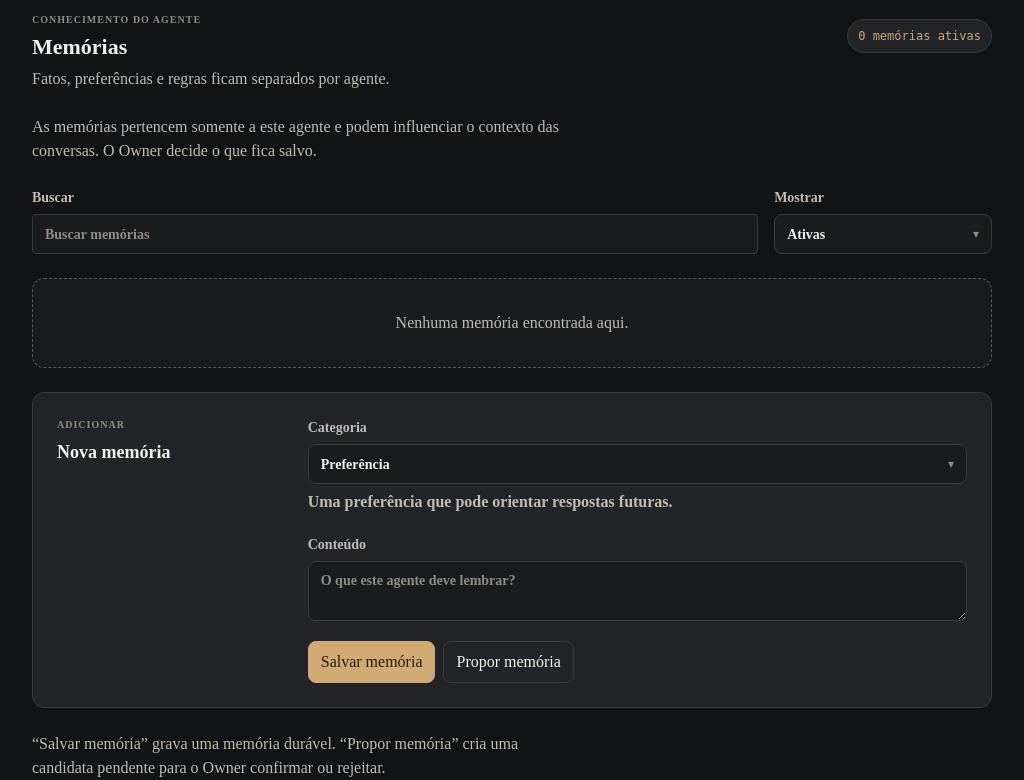
Scenario: State and memory guidance › shows contextual memory count, category help, and proposal semantics
Click the button "Ativas ▾".
click(883, 234)  # box [774, 214, 992, 254]
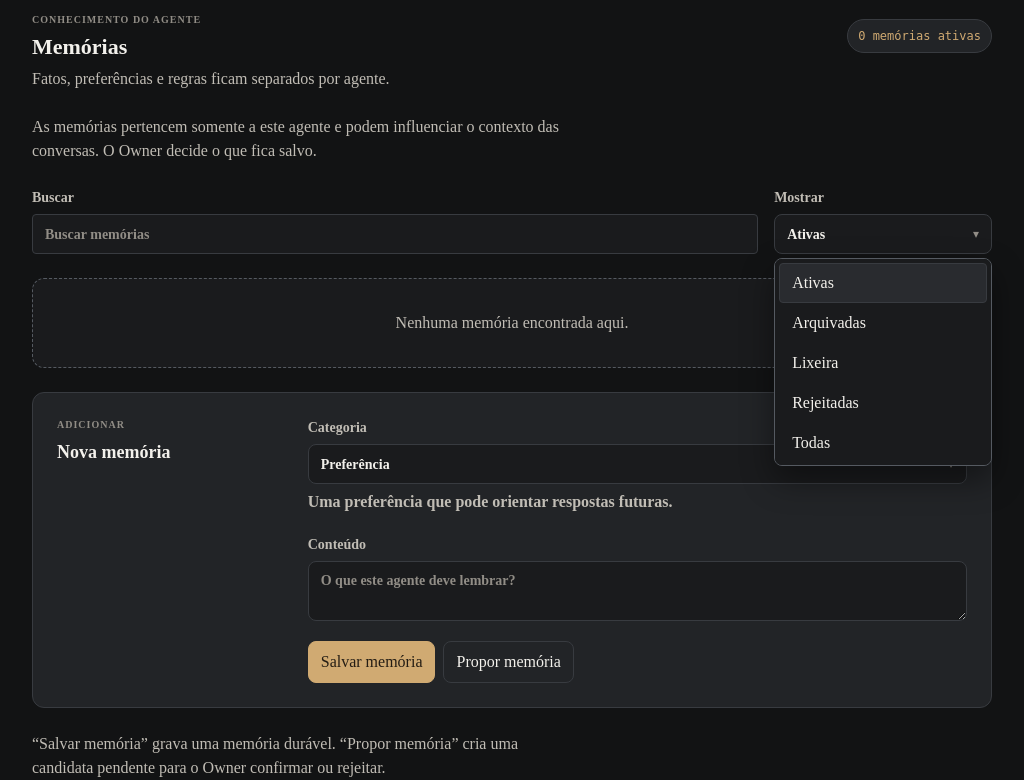
Click the option "Arquivadas".
click(829, 322)  # box [792, 314, 866, 331]
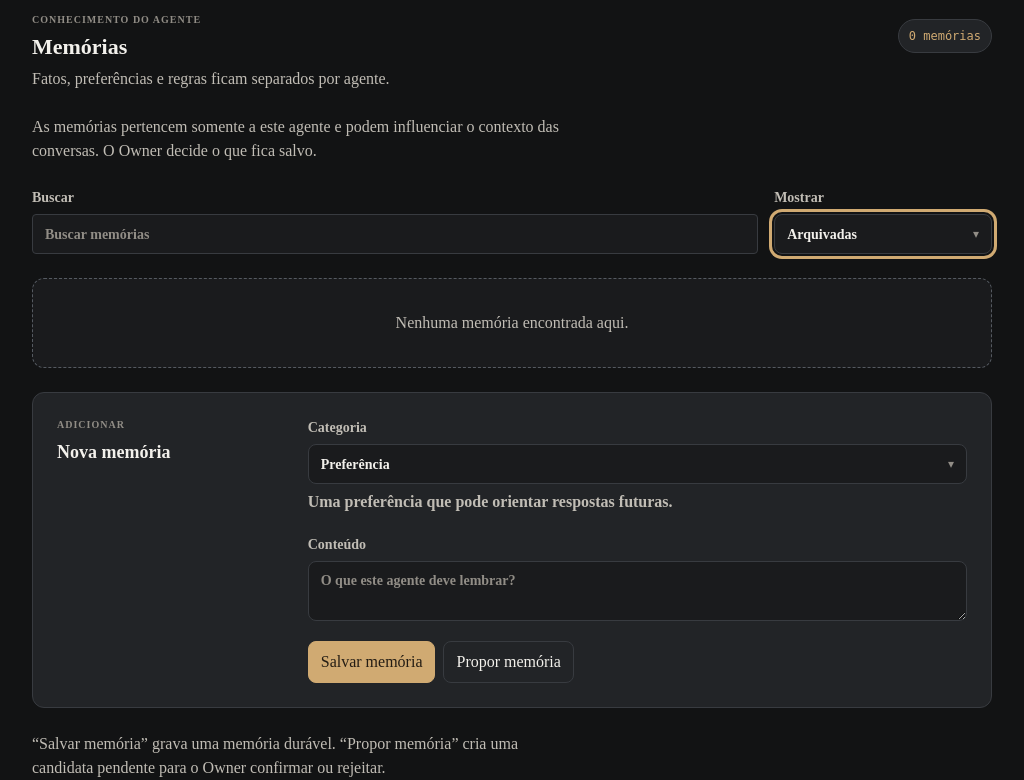
Click the button "Preferência ▾".
click(355, 464)  # box [308, 444, 967, 484]
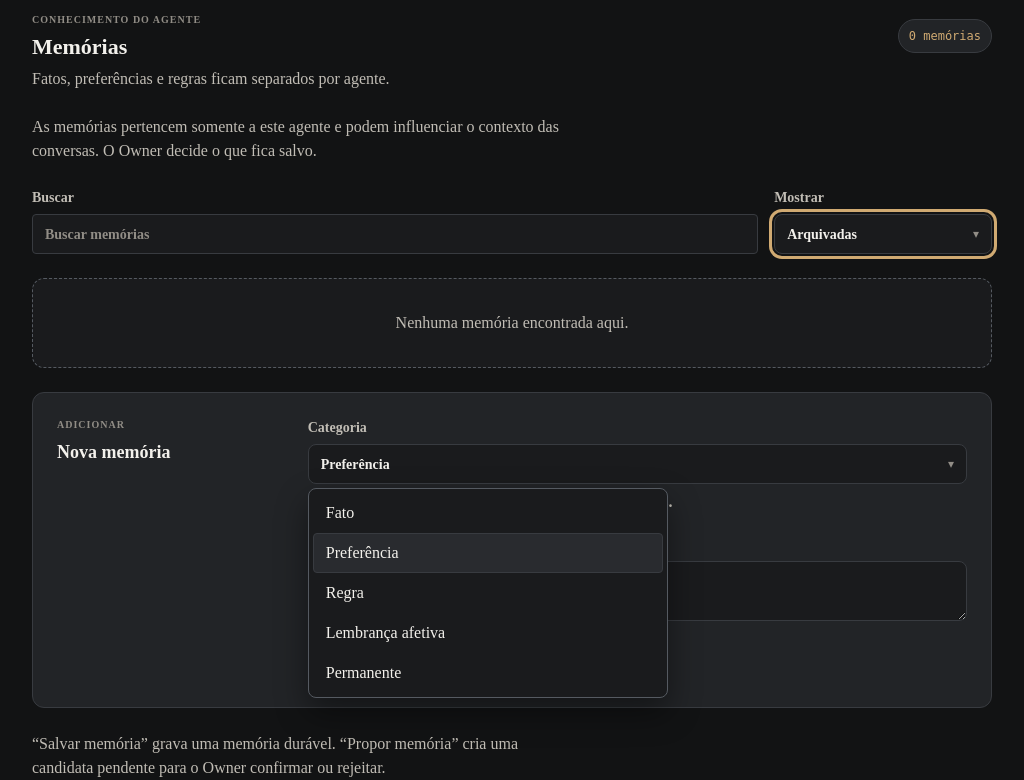
Click the option "Regra".
click(345, 592)  # box [326, 584, 364, 601]
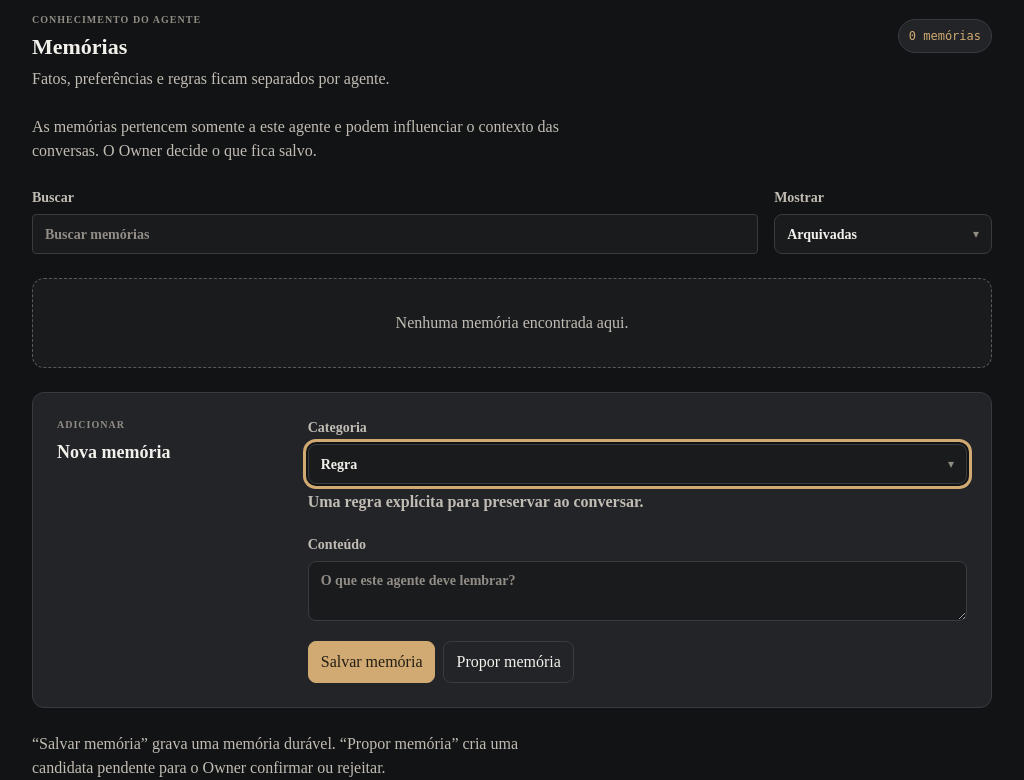
Expected: the text "candidata pendente" is shown, [32, 735, 518, 776]
Expected: the text "Uma regra explícita" is shown, [308, 493, 644, 510]
